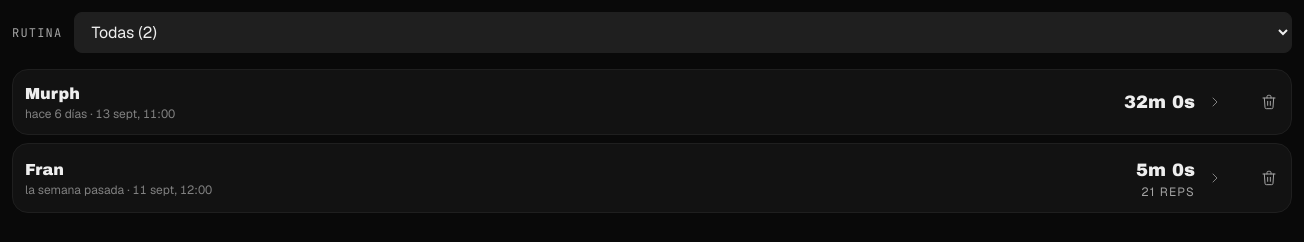
Test: HistoryList with entries › offers a filter with all workouts and counts
The image size is (1304, 242).
Select "Fran (1)" in the dropdown named "filtrar historial por rutina": (683, 32) [74,12,1292,53]
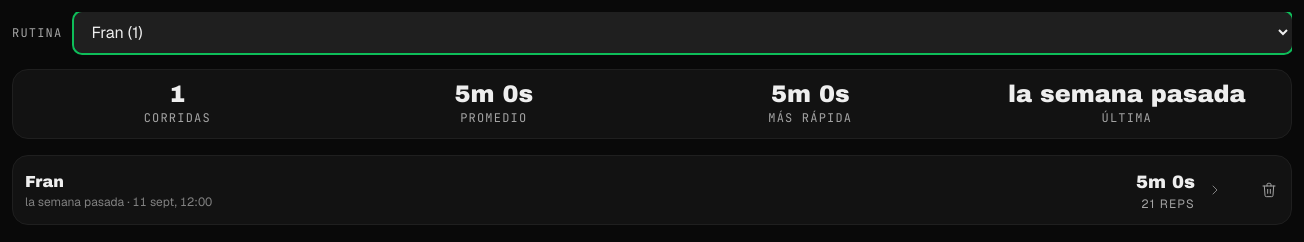
Check: the list item shows "Fran", box [13,156,1235,224]
Check: the number of list items is 1, box [12,155,1292,225]
